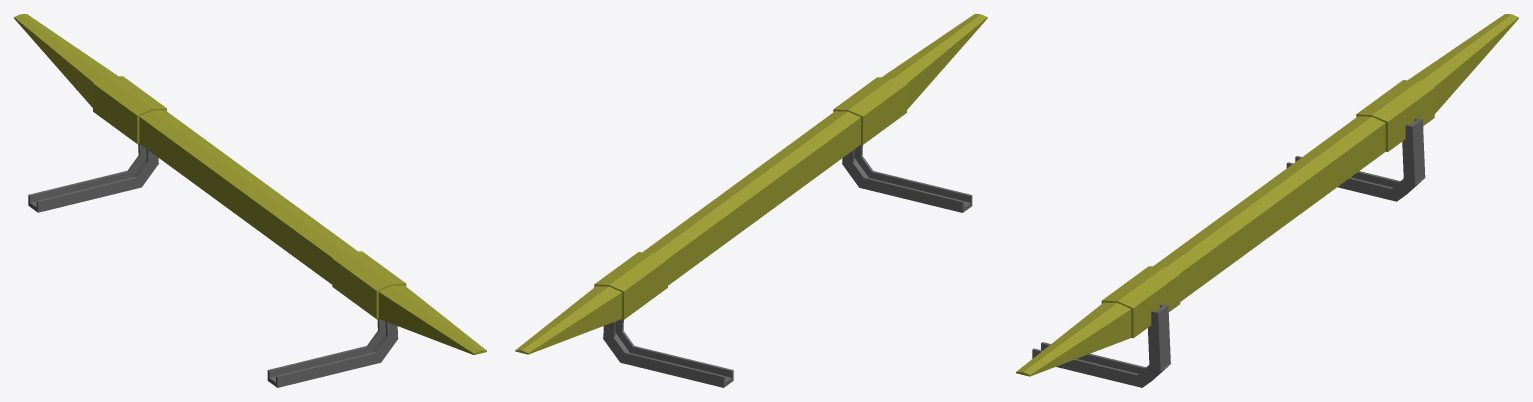
The model's file is 3rd_rail_inverted.obj.
3 views of the same model, side by side, from view 1: azimuth 30°, elevation 25°; view 2: azimuth 150°, elevation 25°; view 3: azimuth 330°, elevation 25° (orthographic). The views are drawn at different scales.
Visible parts, largest first — view 1: mesh, cube; view 2: mesh, cube; view 3: mesh, cube.
Boxes of the visible parts, bbox=[...] form: mesh: bbox=[14, 14, 486, 354]; cube: bbox=[28, 143, 398, 387]; mesh: bbox=[515, 14, 987, 354]; cube: bbox=[603, 144, 972, 387]; mesh: bbox=[1016, 14, 1518, 376]; cube: bbox=[1032, 118, 1425, 387].
Bounding box in the file's own units: 0.5846 × 0.425 × 3.84.
1 material, 1 textured.
